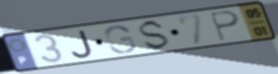3: (32, 33, 65, 66)
7: (174, 12, 208, 47)
G: (103, 24, 138, 55)
J: (70, 28, 96, 60)
P: (208, 10, 243, 43)
S: (138, 19, 173, 52)
